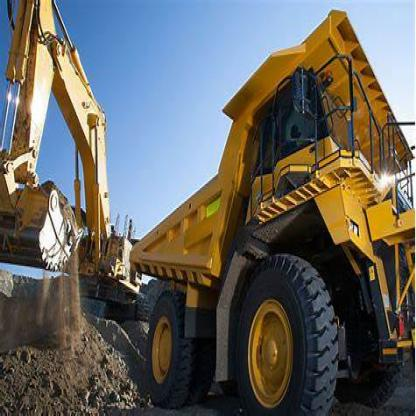dump_truck: (124, 9, 415, 414)
